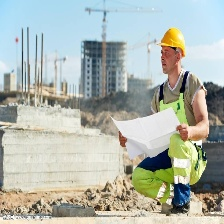helmet: (155, 26, 188, 59)
no-vest: (150, 71, 209, 145)
person: (130, 27, 211, 211)
